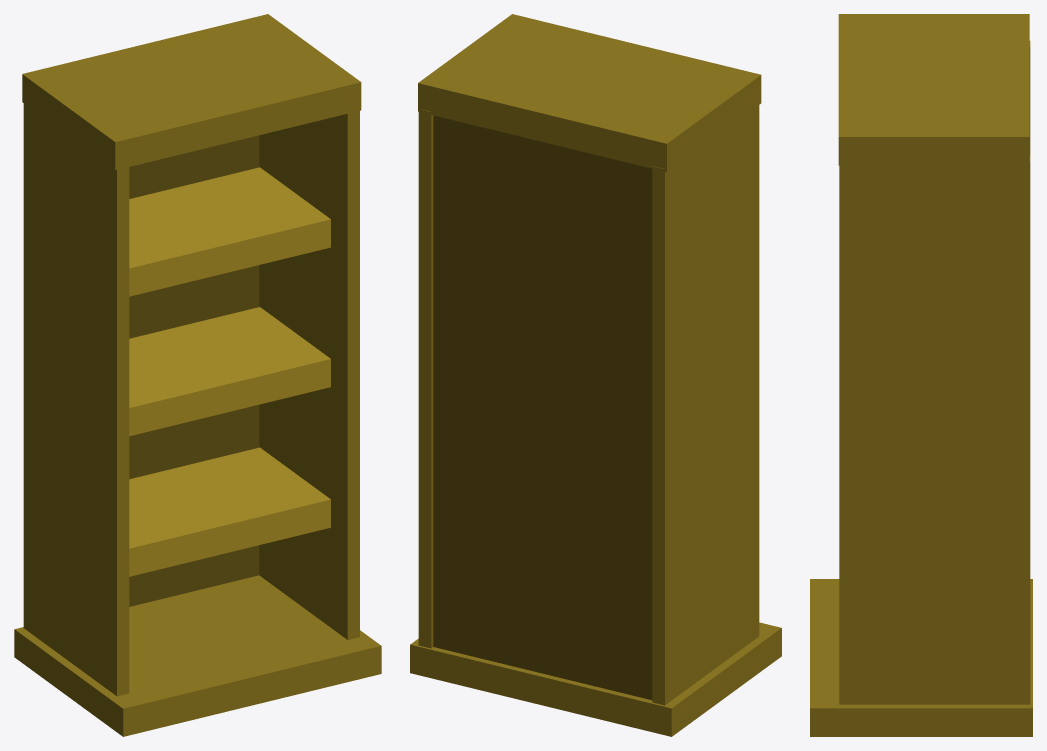
The model's file is Bookcase_2.fbx.
The picture shows the model from 3 angles, left to right: view 1: azimuth 30°, elevation 25°; view 2: azimuth 150°, elevation 25°; view 3: azimuth 270°, elevation 25°; orthographic projection. The views are drawn at different scales.
Parts seen in each view (by area): view 1: polySurface1; view 2: polySurface1; view 3: polySurface1.
Boxes of the visible parts, left/top/right/bottom form: polySurface1: left=14, top=14, right=381, bottom=736; polySurface1: left=410, top=14, right=781, bottom=736; polySurface1: left=810, top=14, right=1032, bottom=736.
Size of the model in its own units: 8.4 by 18.12 by 6.12.
